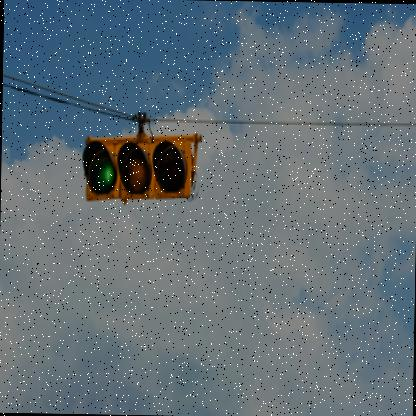trafficlight: (80, 130, 199, 198)
